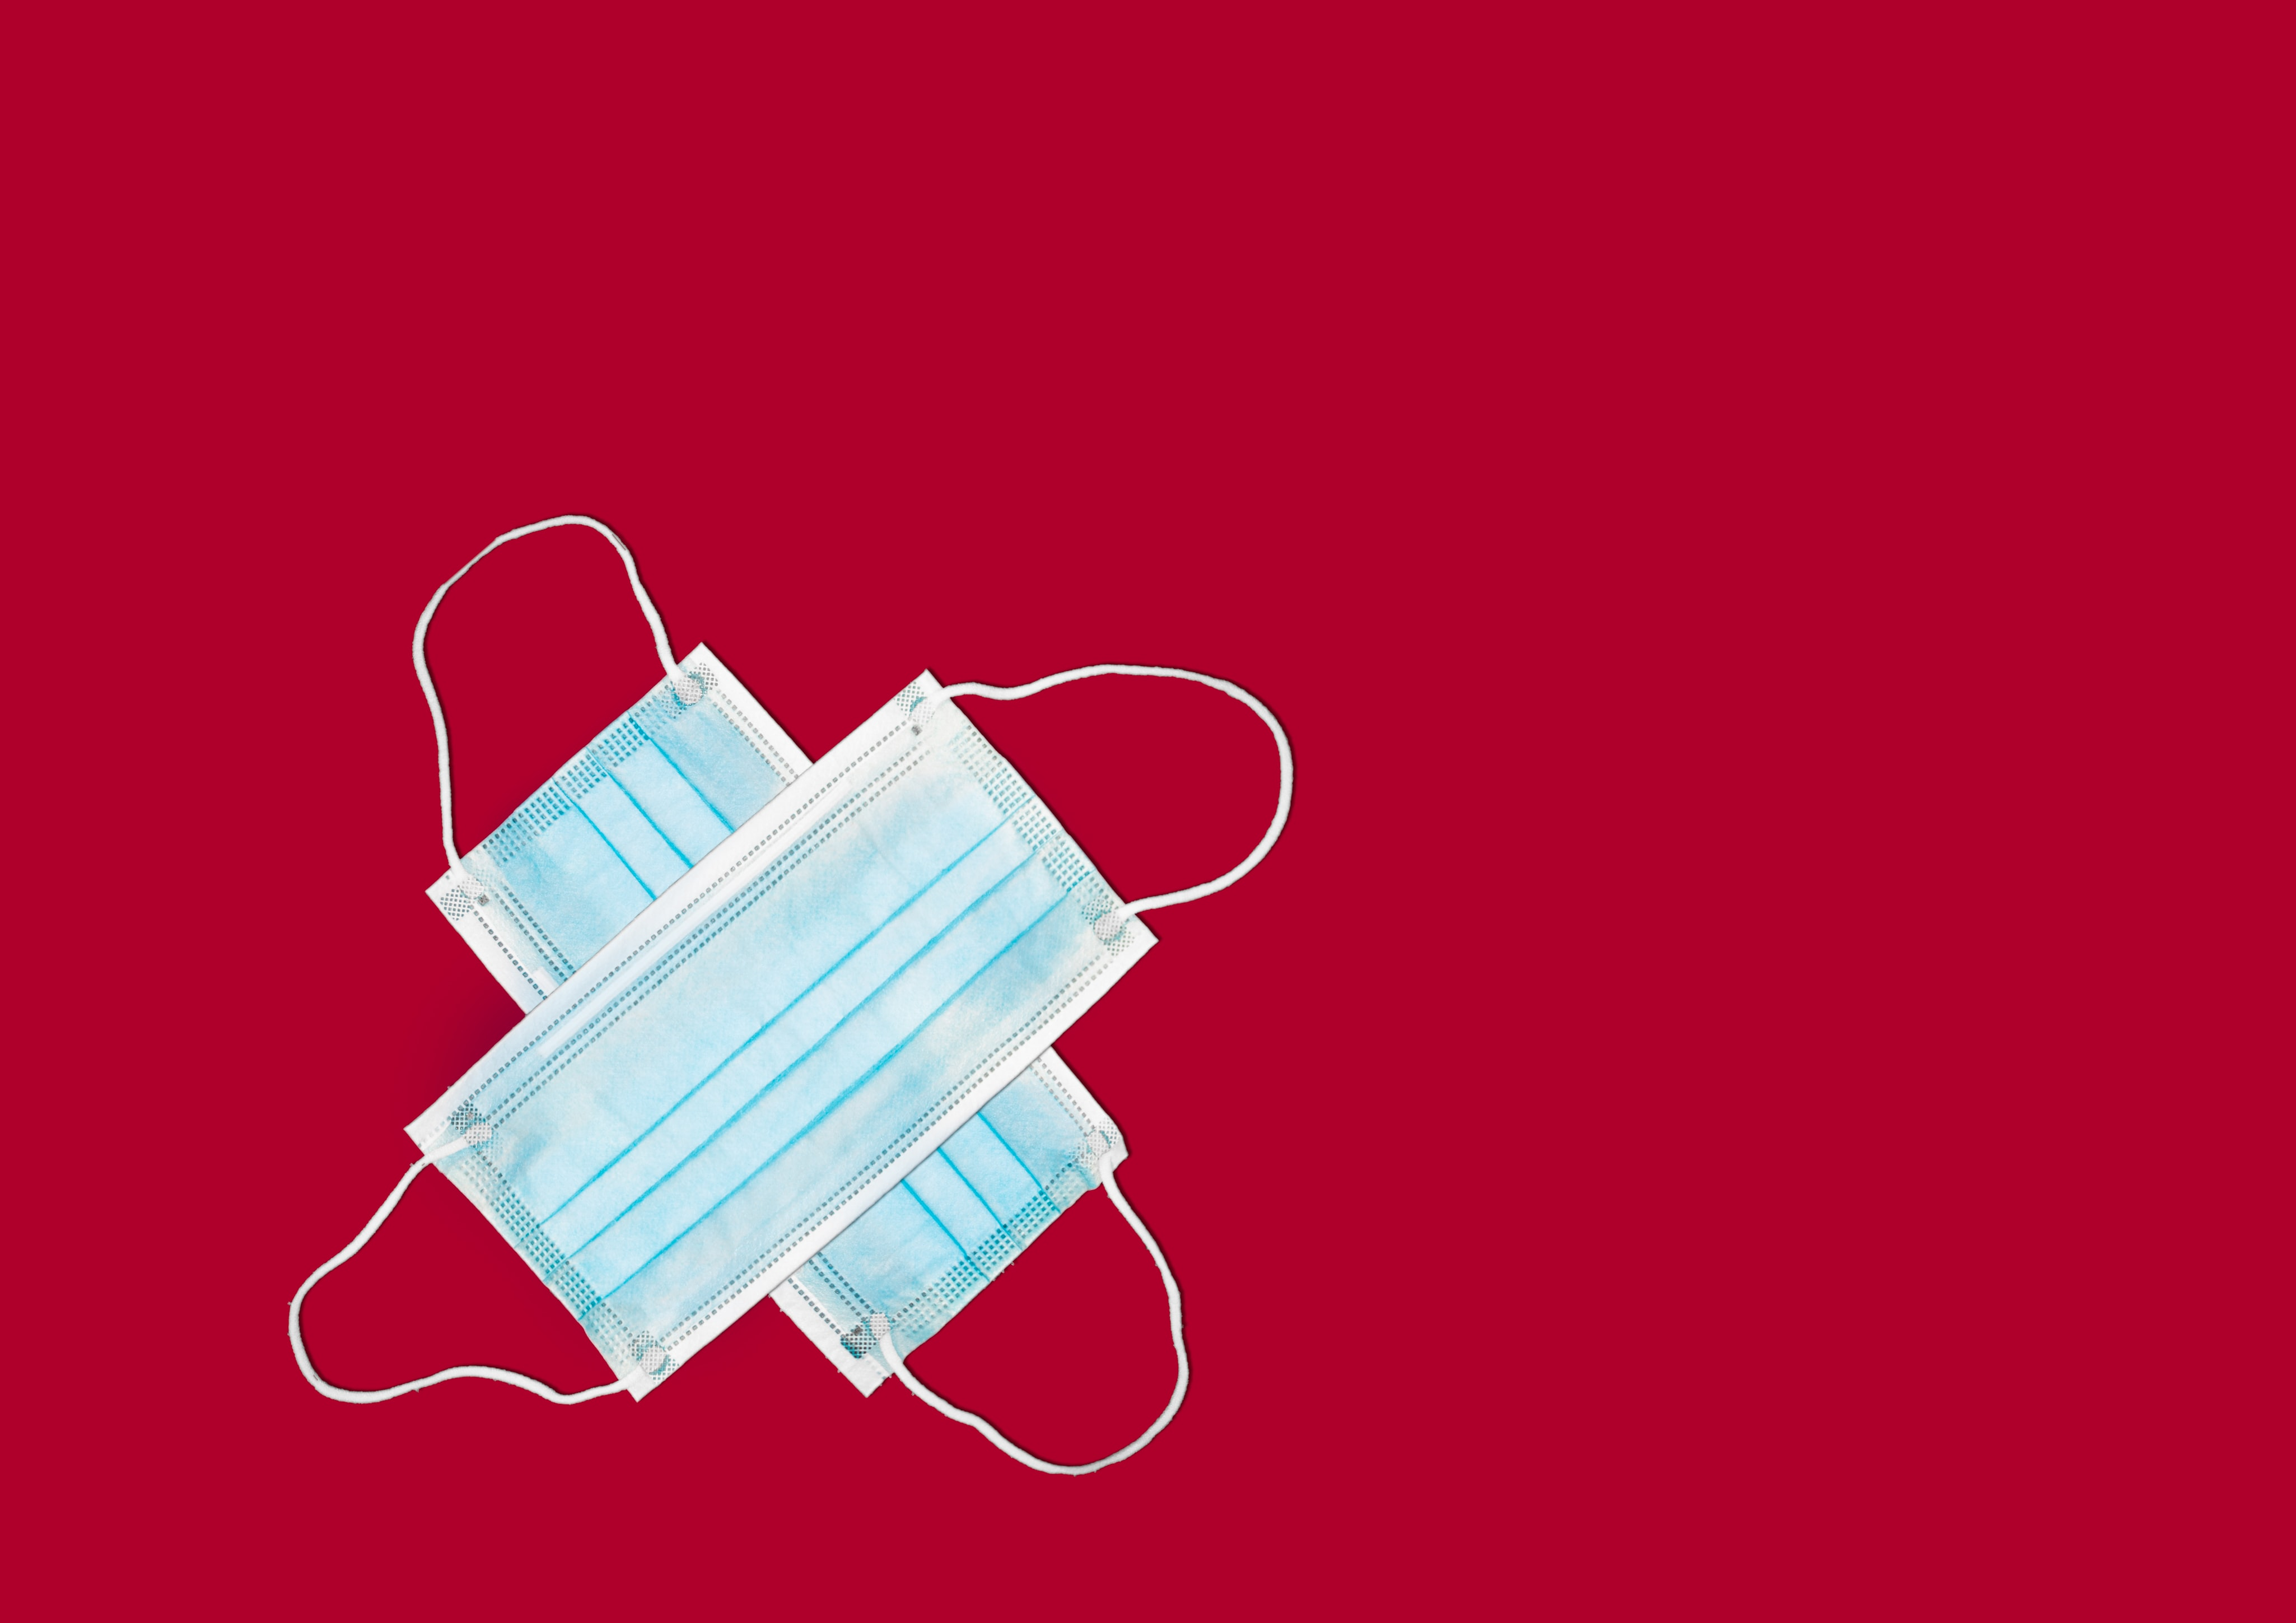mask: (336, 490, 1303, 1475)
